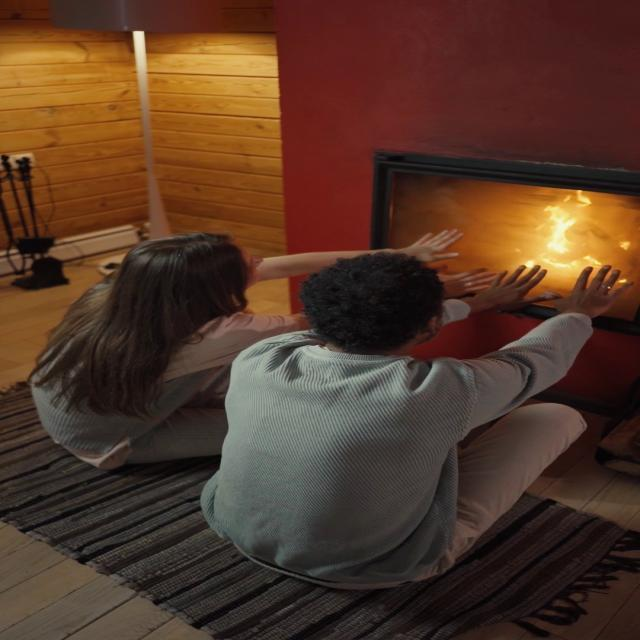Fire: (520, 188, 624, 276)
